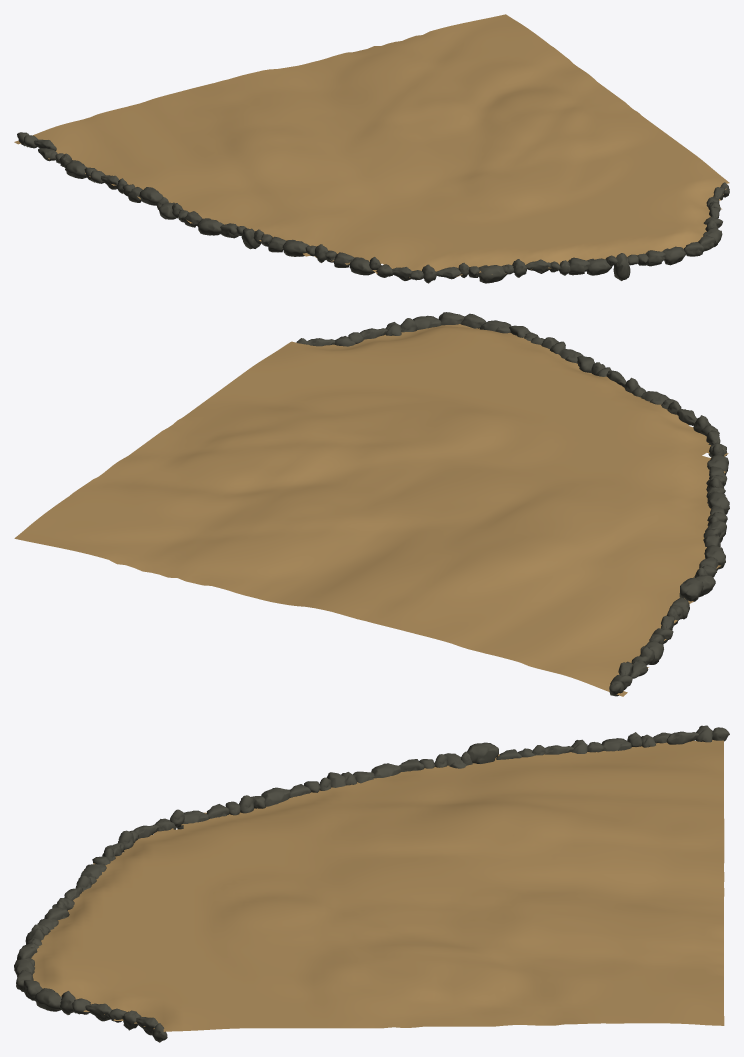
The model's file is ground_01.fbx.
The picture shows the model from 3 angles, top to bottom: view 1: azimuth 30°, elevation 25°; view 2: azimuth 150°, elevation 25°; view 3: azimuth 270°, elevation 25°; orthographic projection. The views are drawn at different scales.
Parts seen in each view (by area): view 1: polySurface_ground_01; view 2: polySurface_ground_01; view 3: polySurface_ground_01.
Part boxes in pixels (bbox=[...]): polySurface_ground_01: bbox=[14, 14, 729, 283]; polySurface_ground_01: bbox=[14, 312, 729, 696]; polySurface_ground_01: bbox=[14, 725, 729, 1042].
Size of the model in its own units: 439 by 29.7 by 442.
